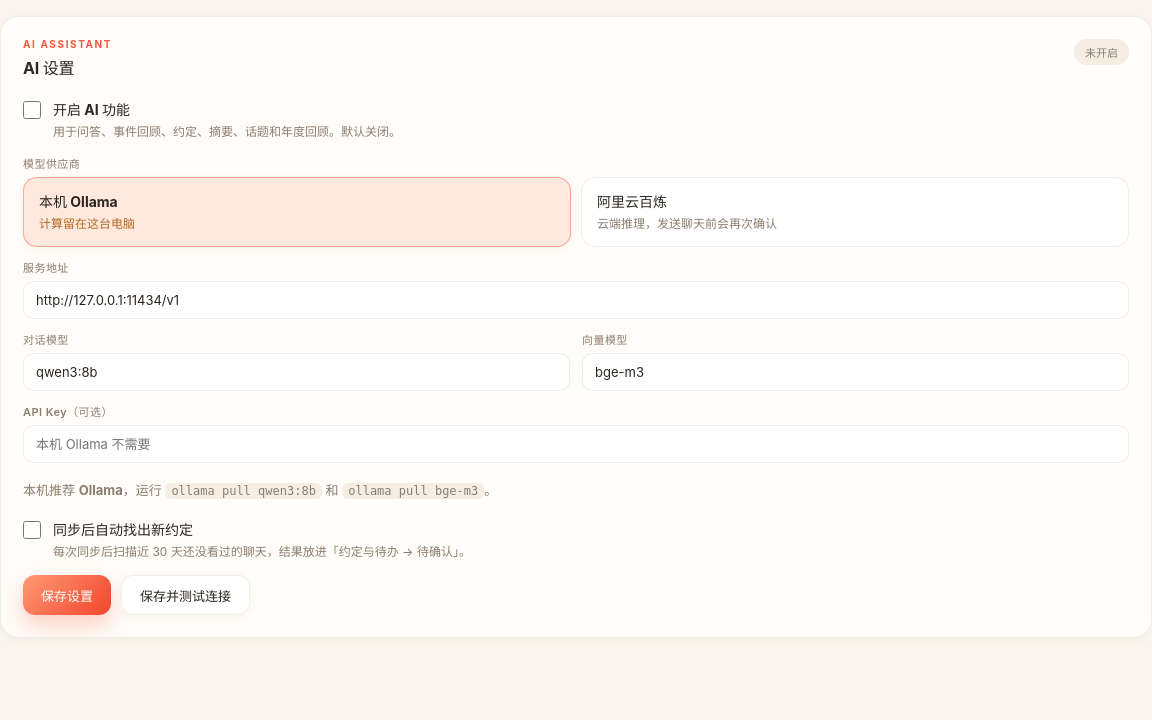
it: AiSettings › requires opting in before testing a cloud endpoint
This screenshot has width=1152, height=720.
Type "https://api.example.com/v1" into the field labelled "服务地址". click: [576, 300]
box: [23,281,1129,319]
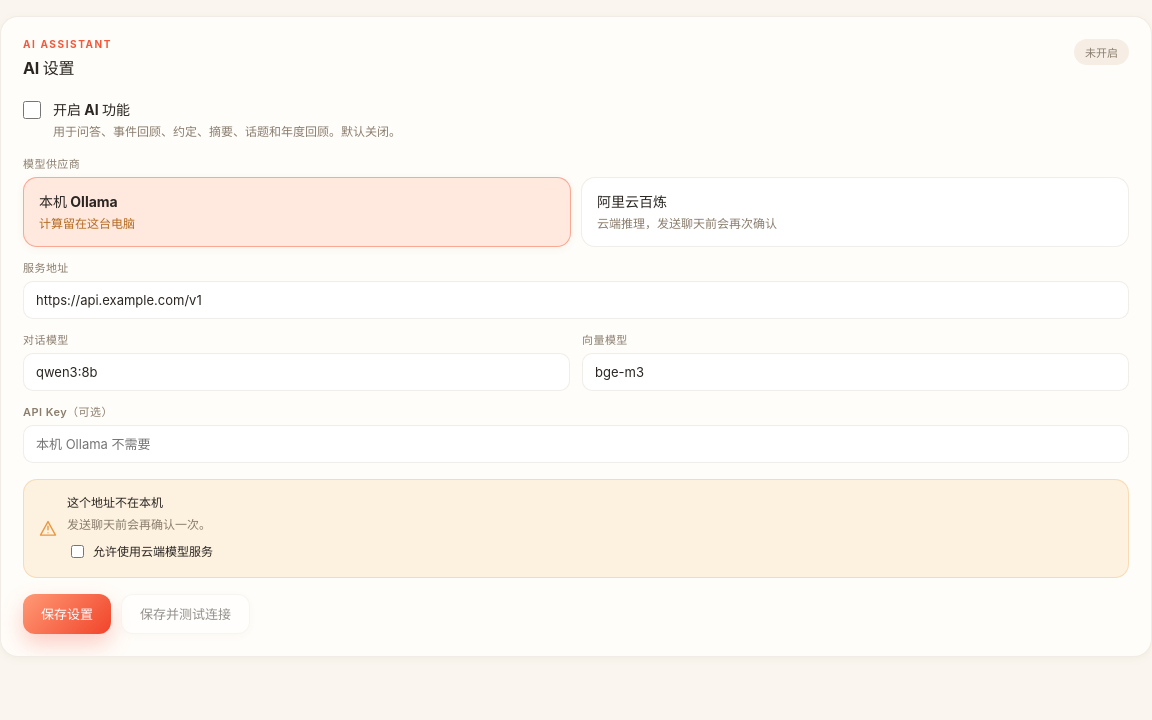
Expected: the text "这个地址不在本机" is shown, [67,495,163,510]
Expected: the button "保存并测试连接" is disabled, [121,594,250,634]
Click the checkbox labelled "允许使用云端模型服务". click: [78, 552]
box: [71,546,84,558]
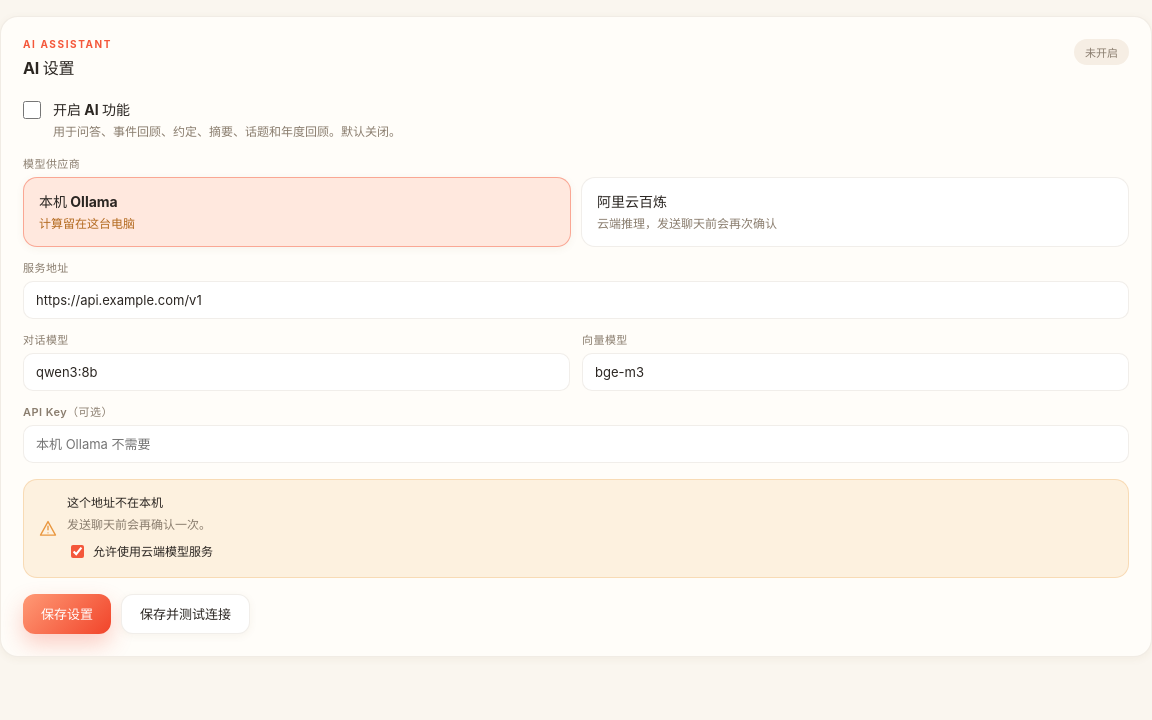
Expected: the button "保存并测试连接" is enabled, [121,594,250,634]
